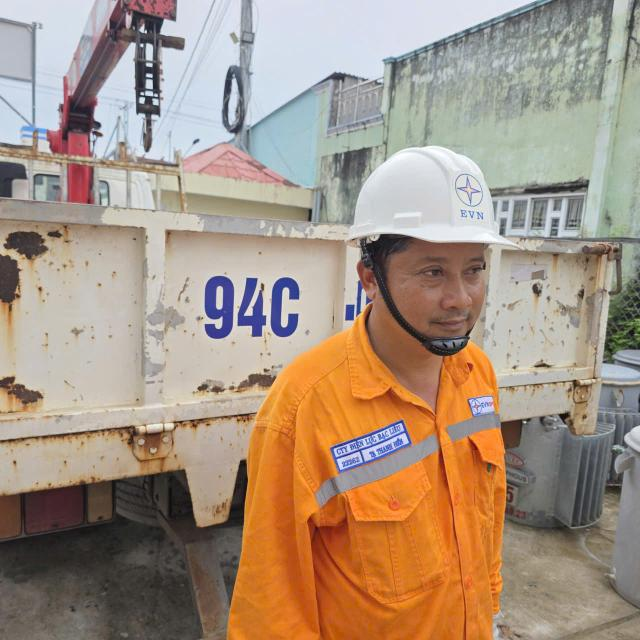helmet: (316, 116, 517, 267)
